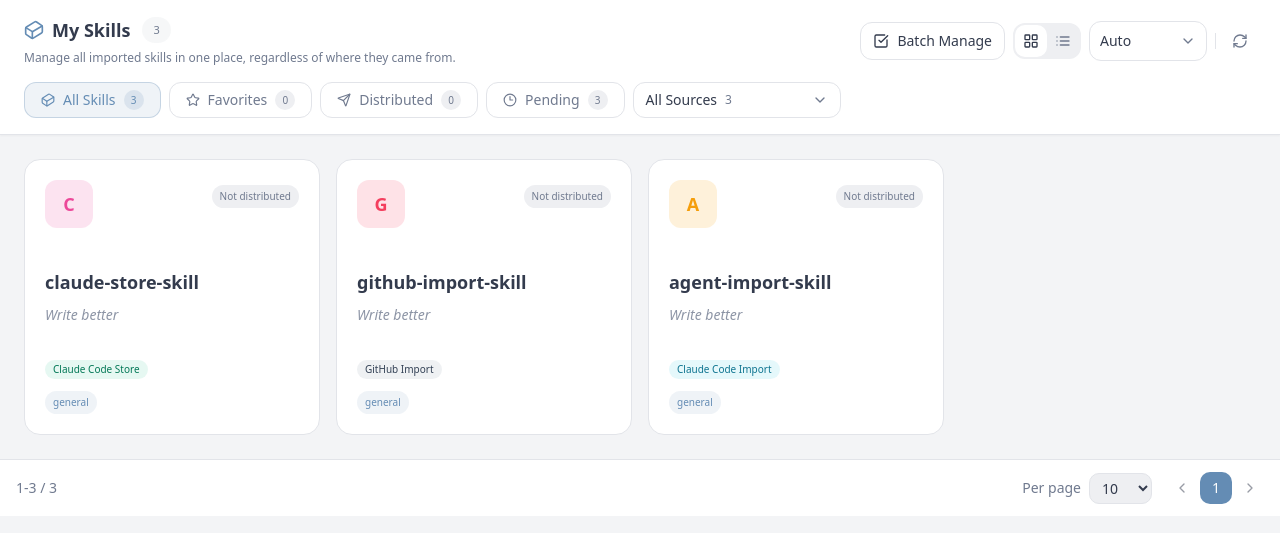
skill i18n smoke › filters My Skills by source badge from the header dropdown
Check: the heading "claude-store-skill" is shown, box [45,270,199,294]
Check: the heading "github-import-skill" is shown, box [357,270,527,294]
Click the button with aria-label "Skill source" at coordinates (737, 100), box [633,82,841,118]
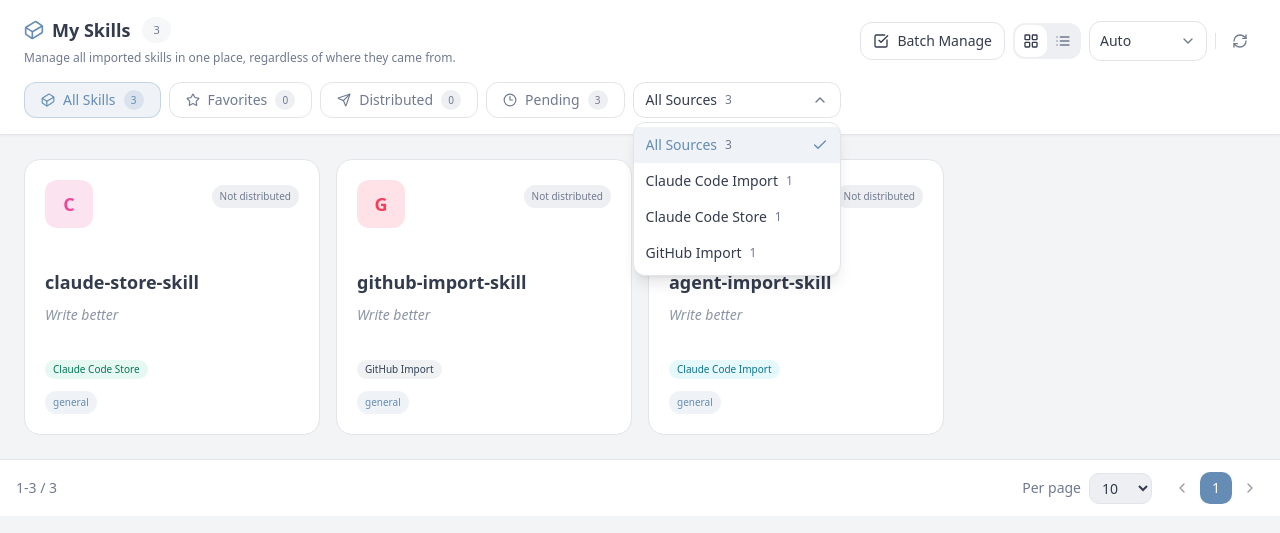
Click the option "GitHub Import 1" at coordinates (737, 253), box [634,235,840,271]
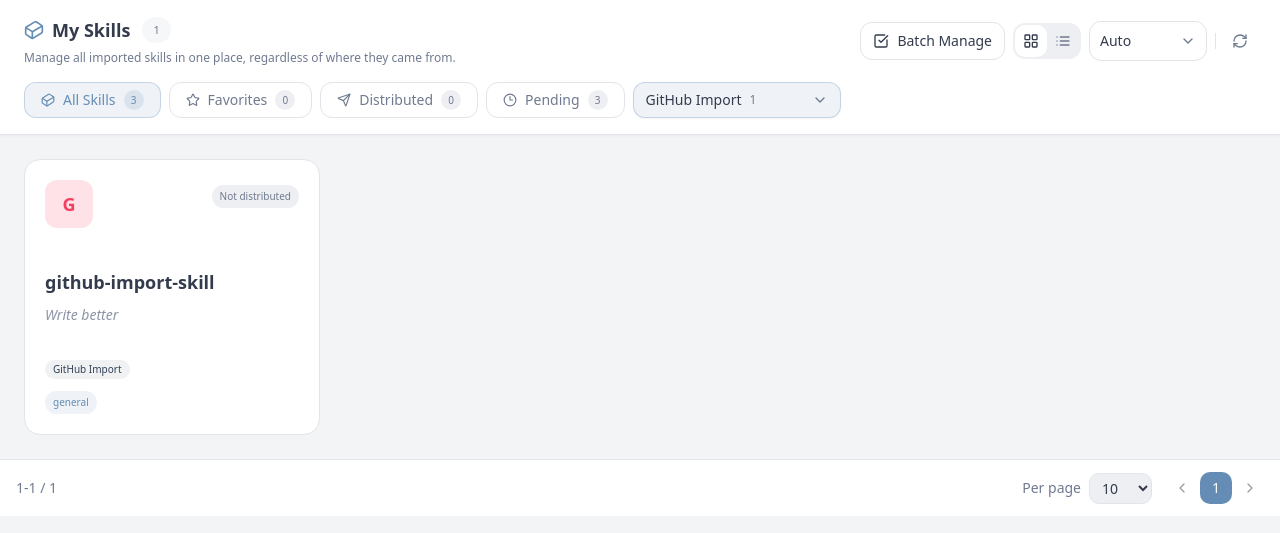
Check: the heading "github-import-skill" is shown, box [45,270,215,294]
Check: the button "claude-store-skill" is gone
Check: the button "agent-import-skill" is gone
Click the button with aria-label "Skill source" at coordinates (737, 100), box [633,82,841,118]
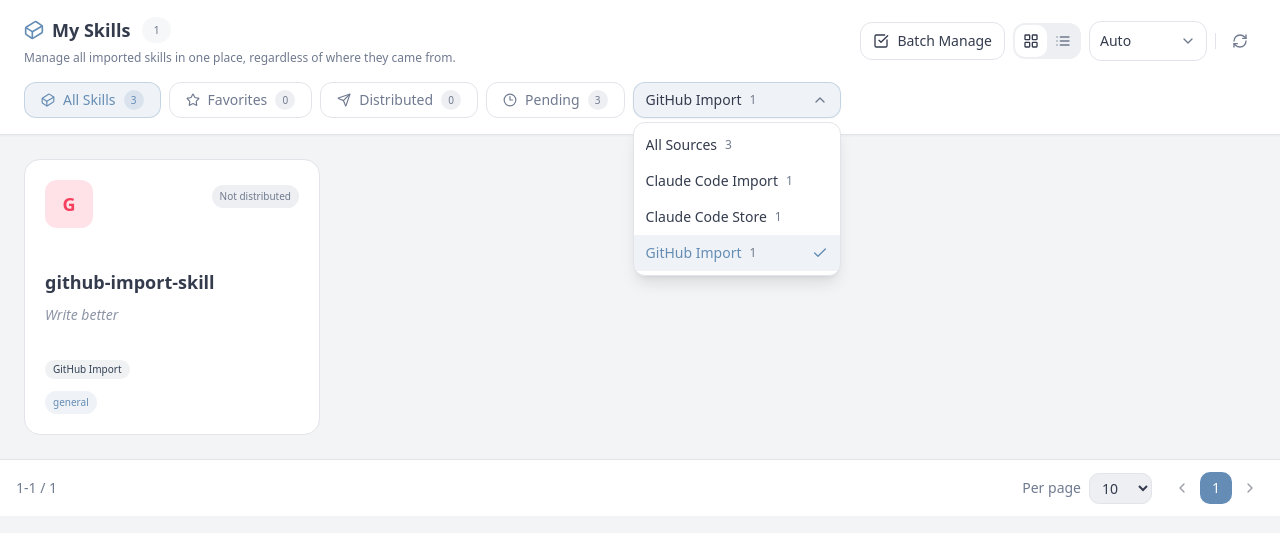
Click the option "Claude Code Store 1" at coordinates (737, 217), box [634,199,840,235]
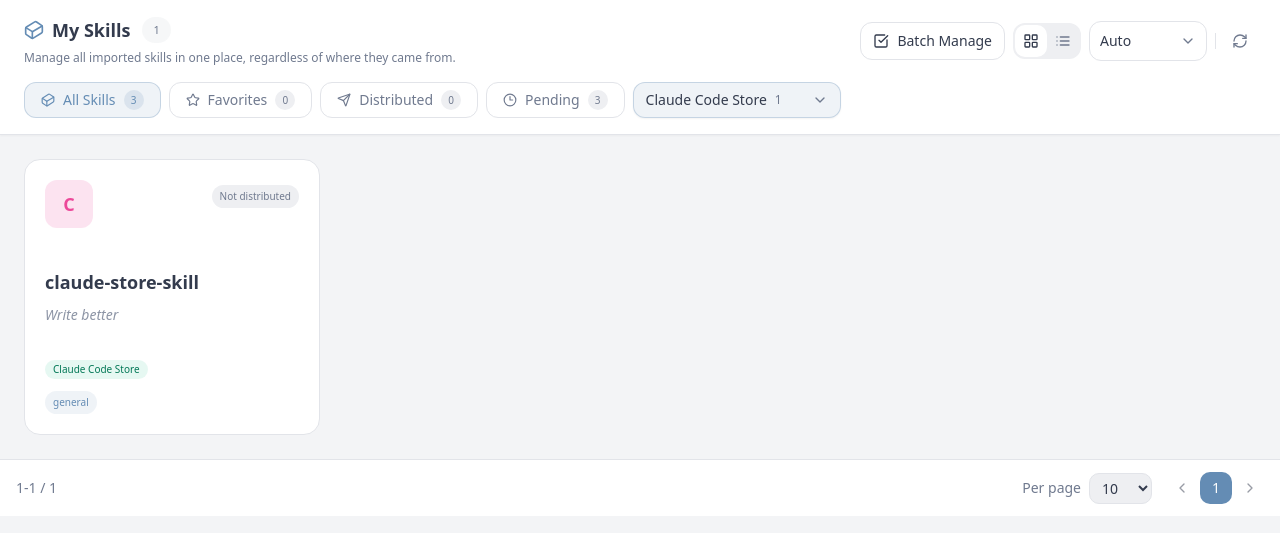
Check: the button "agent-import-skill" is not shown
Check: the heading "claude-store-skill" is shown, box [45,270,199,294]
Check: the button "github-import-skill" is gone
